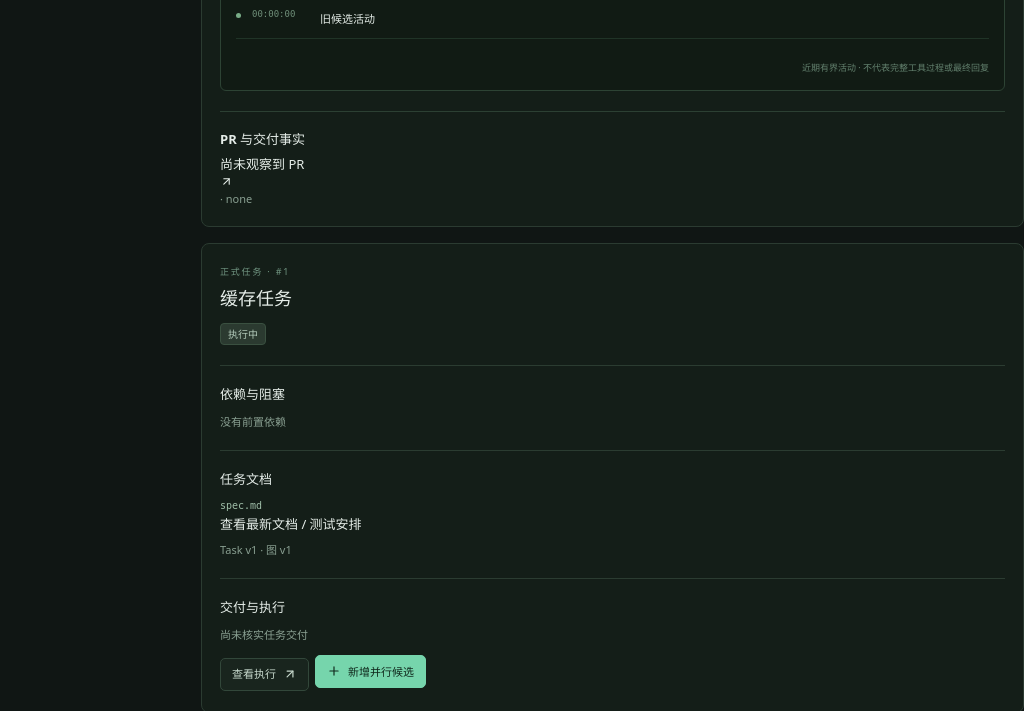
Test: shows server candidates after restart without restoring obsolete journal cards or consuming their slots
(page scrolled)
Expected: the text "旧候选活动" is shown, [320,11,375,26]
Expected: the text "新候选" is not shown
Click the button "新增并行候选" at point(370, 671), box [315,655,426,688]
(page scrolled)
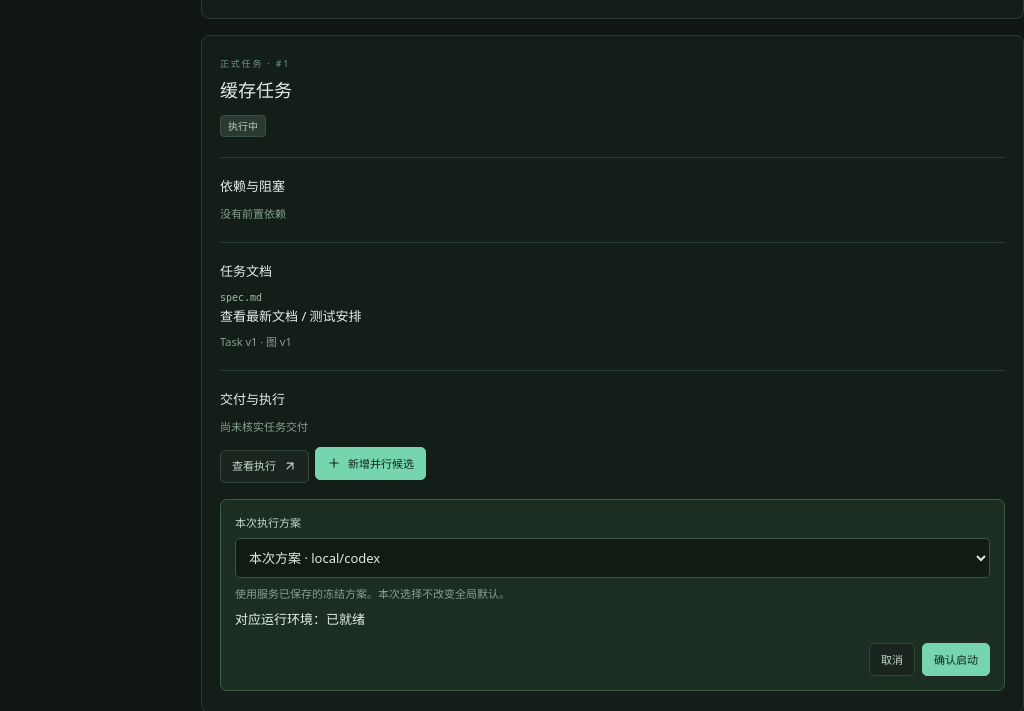
Click the button "确认启动" at point(956, 659), box [922,643,990,676]
(page scrolled)
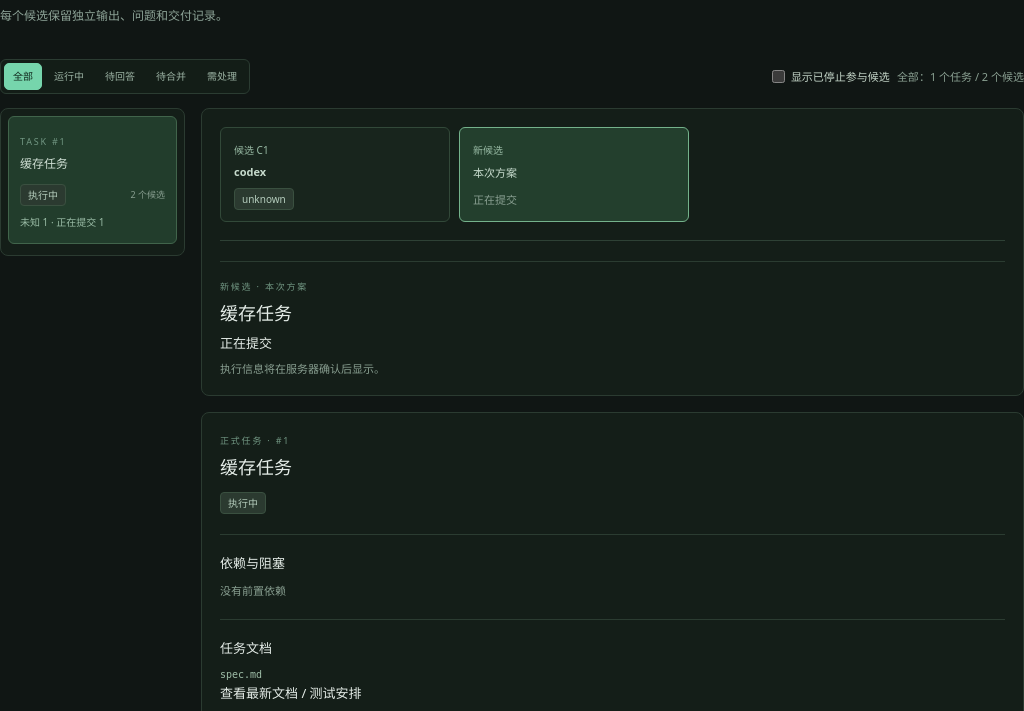
Result: the number of buttons with class "candidate-card" is 2 at [220,126,450,222]; [459,126,689,222]
Result: the text "2 个候选" is shown at [130,188,165,202]
Result: the text "全部：1 个任务 / 2 个候选" is shown at [897,68,1023,84]
